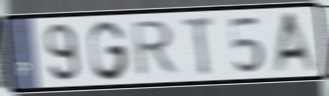5: (226, 14, 267, 74)
9: (42, 22, 83, 83)
A: (270, 9, 322, 75)
G: (86, 18, 131, 82)
R: (131, 17, 182, 80)
T: (180, 14, 217, 78)
